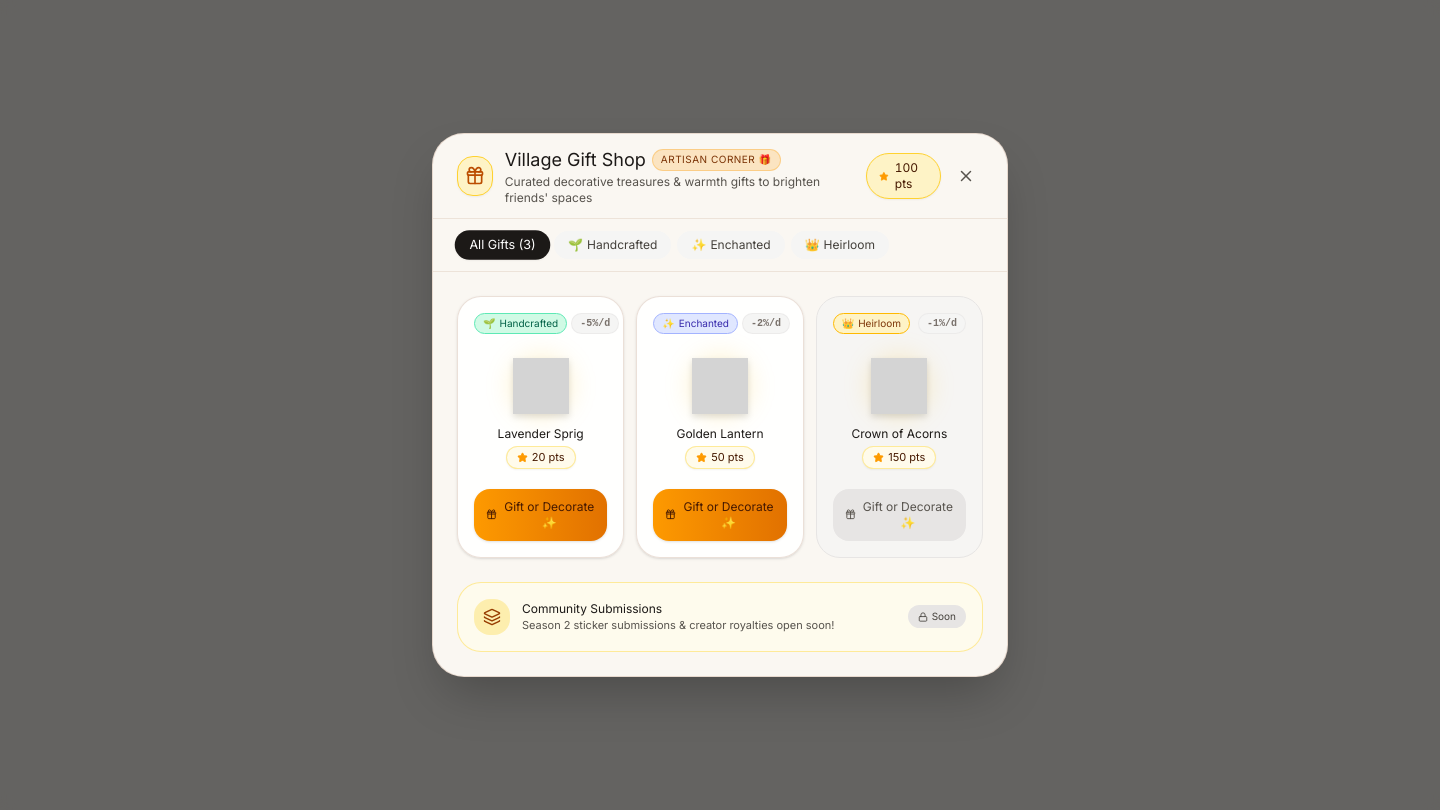
Scenario: StickerStoreDrawer Component (Village Gift Shop & Positivity Economy) › opens Wrap Warmth Gift confirmation modal when gift button clicked
The width and height of the screenshot is (1440, 810).
Check: the heading "Lavender Sprig" is shown, box [498, 426, 584, 442]
Click the button "Gift or Decorate ✨" below "20" at (541,515), box [474, 489, 607, 541]
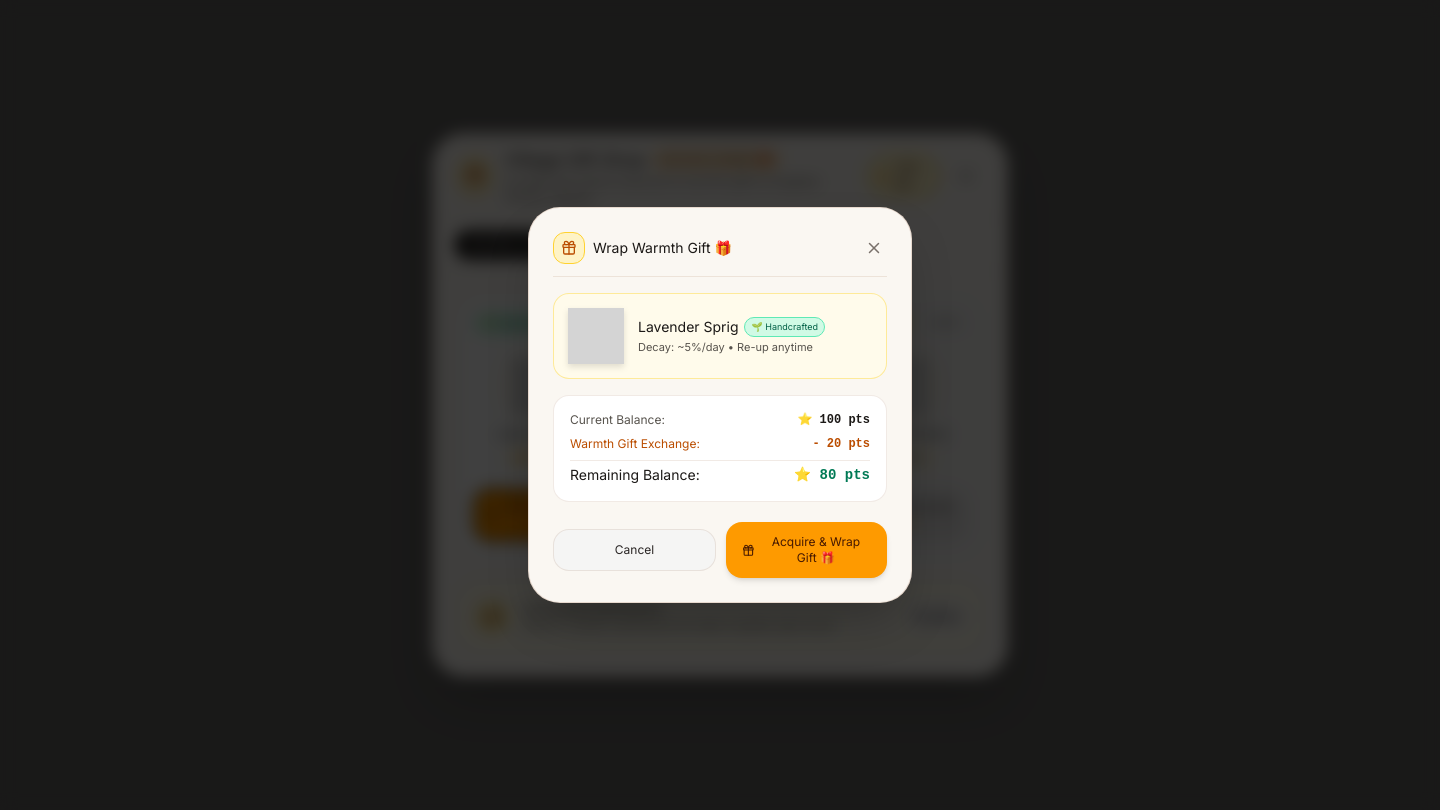
Check: the heading "Wrap Warmth Gift 🎁" is shown, box [593, 238, 732, 258]
Check: the text "Warmth Gift Exchange:" is shown, box [570, 436, 700, 452]
Check: the text "Remaining Balance:" is shown, box [570, 465, 700, 485]
